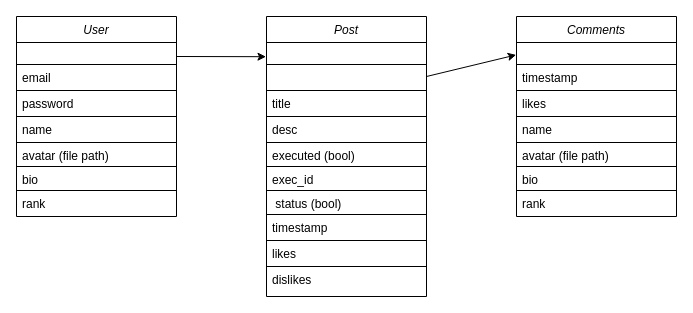
The diagram is 693 pixels wide and 313 high, and some of its shapes have lost their labels. The shapes that lost their labels are listed below. From the top down, each one's centre as x and y in pixels, then its label:
At point (96, 53): "uid (primary key)".
At point (346, 53): "uid".
At point (596, 53): "pid".
At point (346, 77): "pid (primary key)".
